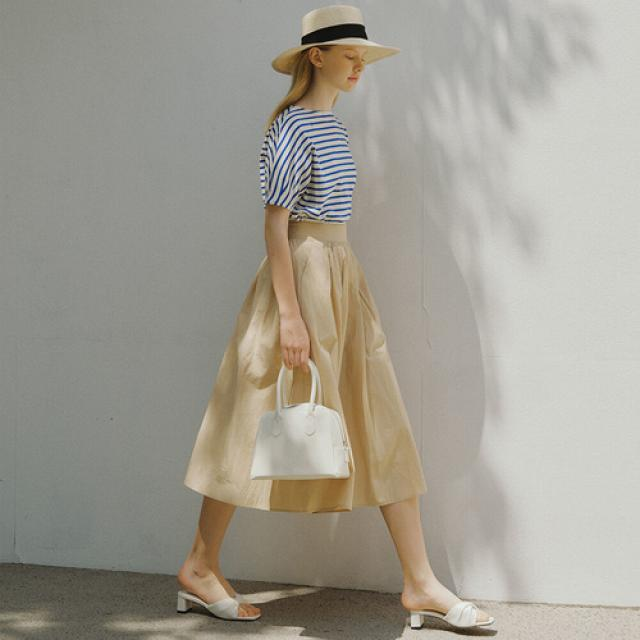dress: (178, 211, 429, 528)
